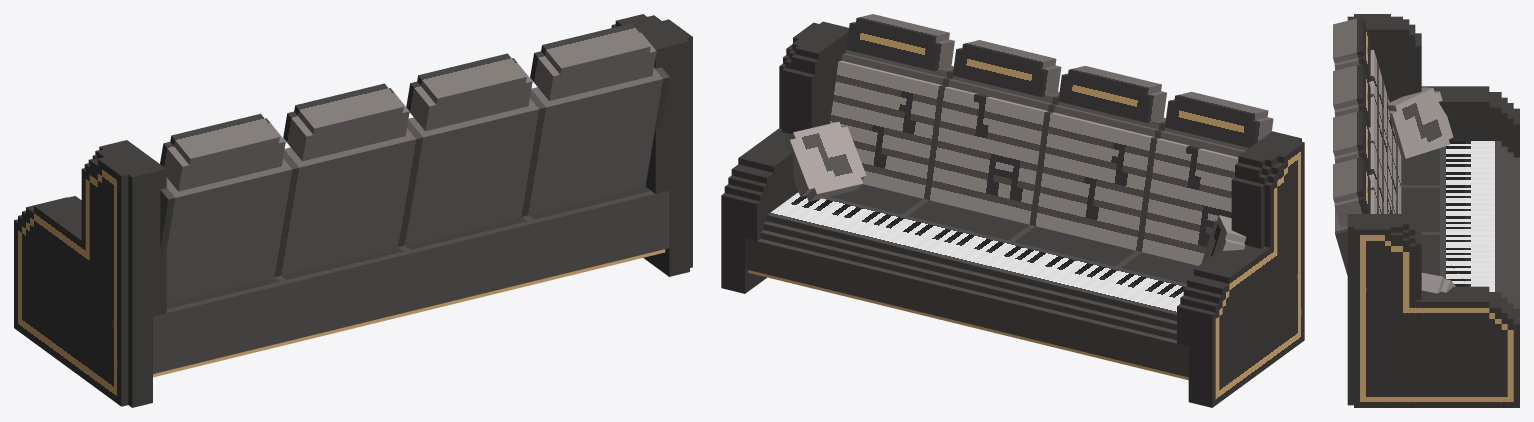
File: sofa.glb
3 renders of one model, left to right at view 1: azimuth 30°, elevation 25°; view 2: azimuth 150°, elevation 25°; view 3: azimuth 270°, elevation 25°, orthographic. The views are drawn at different scales.
Parts seen in each view (by area): view 1: Sofa-Local, SofaBack-Local, SofaBack02-Local; view 2: Sofa-Local, SofaBack02-Local, SofaBack-Local, Kissen2-Local, Kissen-Local; view 3: Sofa-Local, SofaBack-Local, SofaBack02-Local, Kissen-Local, Kissen2-Local.
Part boxes in pixels (box(x1,y1,x2,y2)): Sofa-Local: box(14, 14, 692, 407); SofaBack-Local: box(160, 83, 423, 303); SofaBack02-Local: box(397, 23, 669, 246); Sofa-Local: box(721, 21, 1304, 407); SofaBack02-Local: box(829, 14, 1061, 224); SofaBack-Local: box(1029, 66, 1273, 265); Kissen2-Local: box(783, 122, 866, 201); Kissen-Local: box(1201, 215, 1246, 263); Sofa-Local: box(1347, 14, 1519, 407); SofaBack-Local: box(1333, 17, 1401, 213); SofaBack02-Local: box(1333, 110, 1394, 275); Kissen-Local: box(1388, 87, 1453, 158); Kissen2-Local: box(1421, 272, 1455, 293).
Size of what is drawn, in the model's own units: 4.15 by 1.76 by 1.52.
7 materials, 7 textured.
